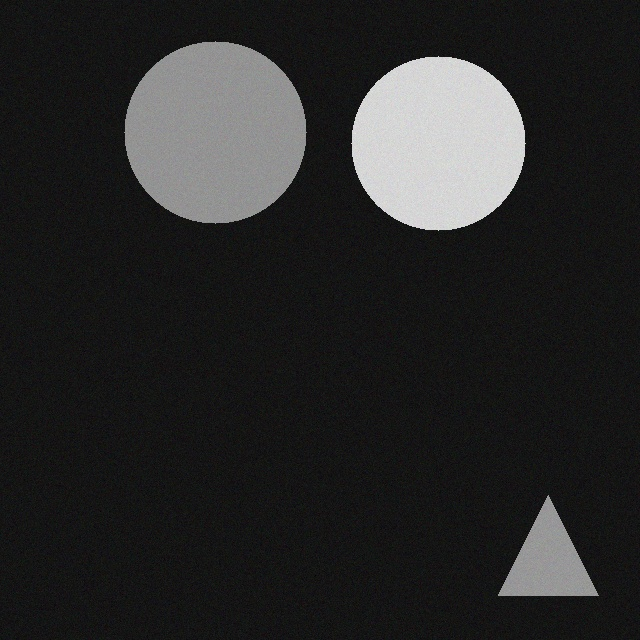circle: (115, 47, 297, 229), (342, 62, 516, 236)
triangle: (489, 501, 589, 601)
